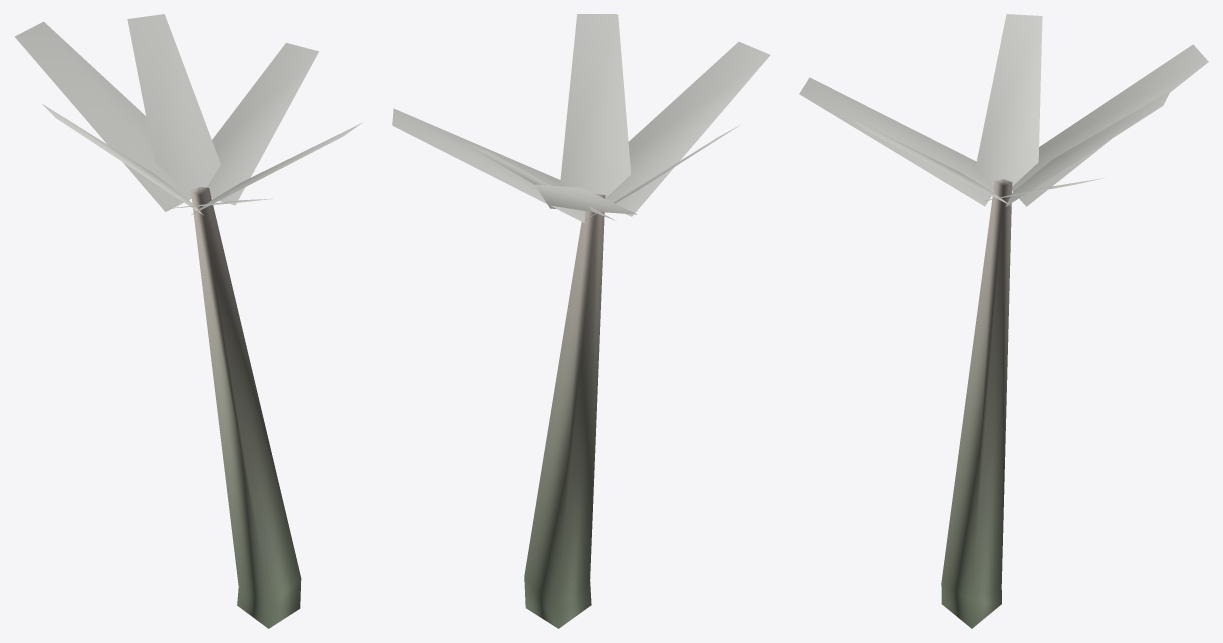
File: treeFernB_lod2.glb
3 views of the same model, side by side, from view 1: azimuth 30°, elevation 25°; view 2: azimuth 150°, elevation 25°; view 3: azimuth 270°, elevation 25° (orthographic). The views are drawn at different scales.
Visible parts, largest first — view 1: treeFernB_lod2; view 2: treeFernB_lod2; view 3: treeFernB_lod2.
Boxes of the visible parts, box(x1,y1,x2,y2) form: treeFernB_lod2: box(14, 14, 362, 628); treeFernB_lod2: box(392, 14, 770, 628); treeFernB_lod2: box(799, 14, 1208, 628).
Size of the model in its own units: 3.92 by 6.66 by 4.86.
